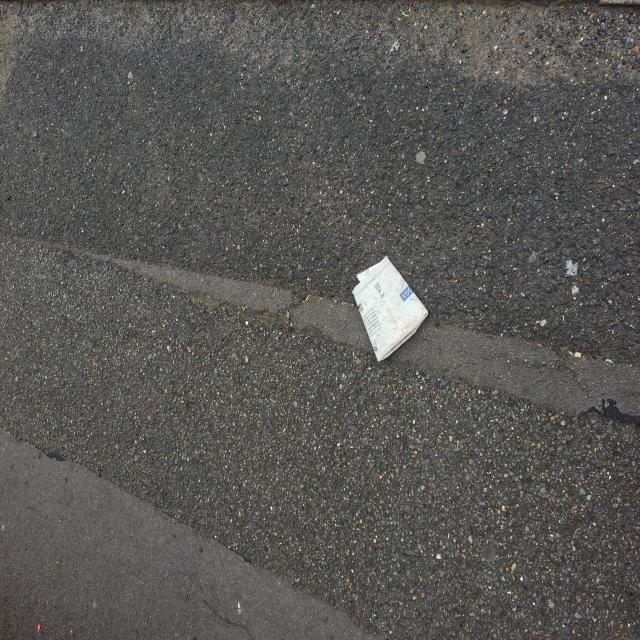Paper cup: (352, 256, 428, 362)
